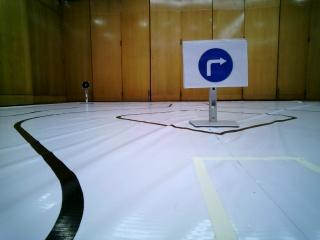right: (187, 43, 244, 87)
